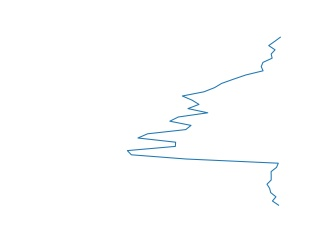proximalDeepseaFan: (124, 35, 288, 204)
